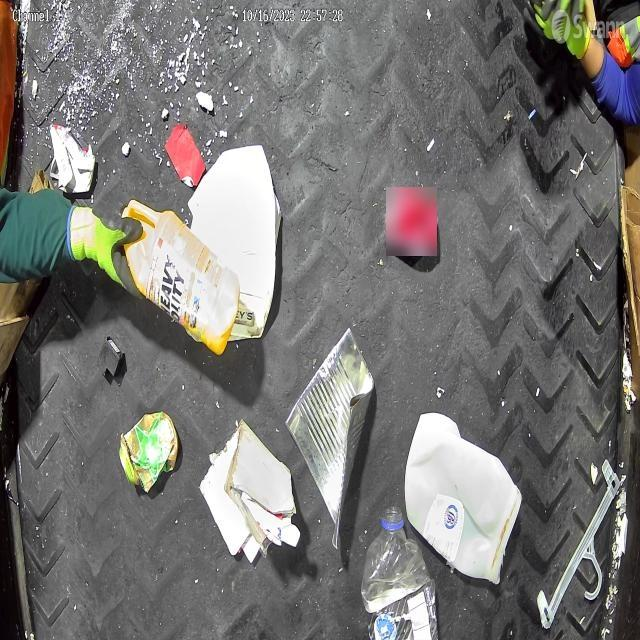milk_jug: (404, 412, 522, 586)
non_white_jug: (122, 200, 240, 356)
plastic_bottle: (361, 505, 439, 640)
